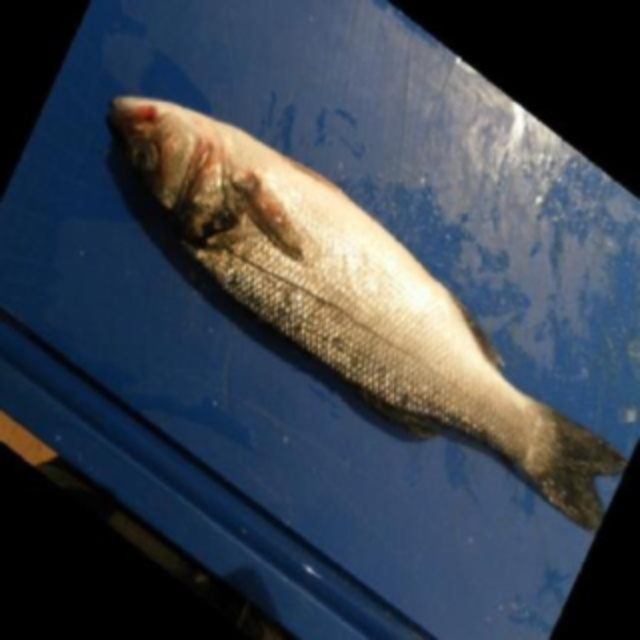Healthy Fish: (88, 73, 628, 532)
